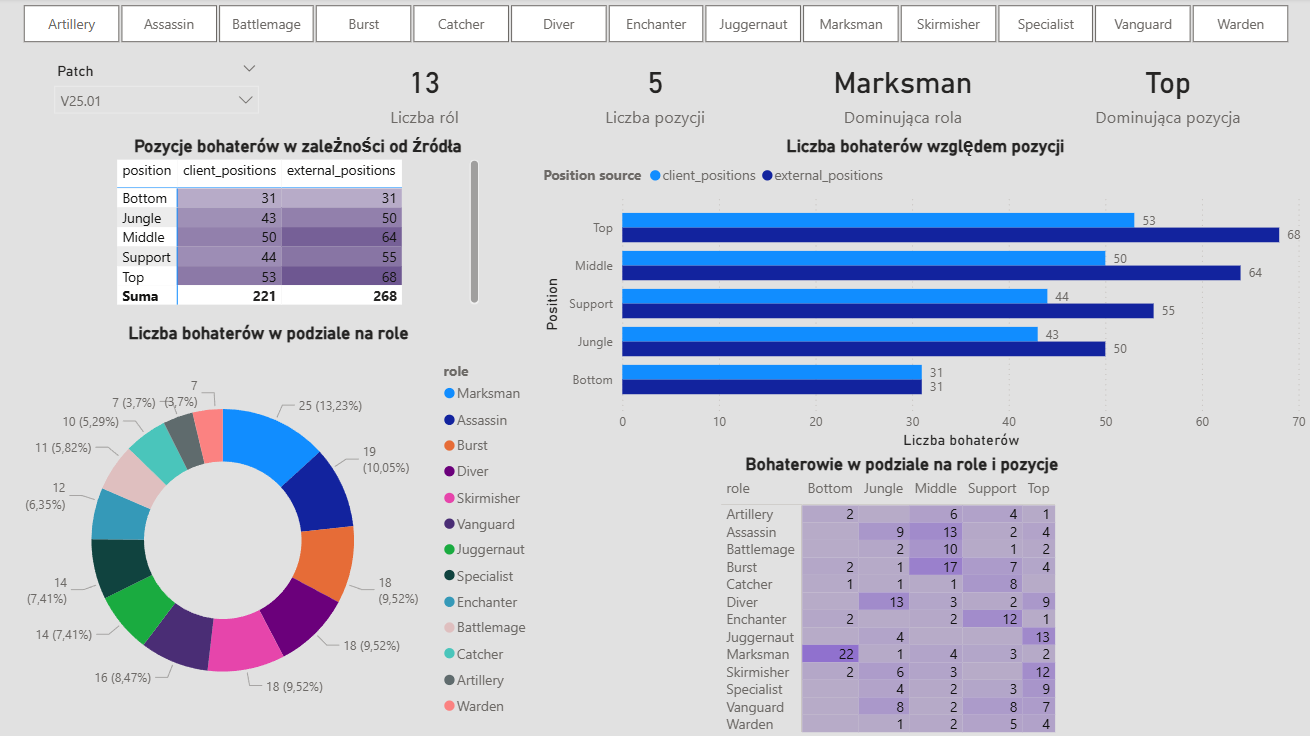

This screenshot's page, from the dashboard's own definition file:
{"tool":"powerbi","page":{"name":"Role i pozycje","canvas":[1280,720],"ordinal":2},"visuals":[{"type":"slicer","fields":{"Values":["v_champion_roles_positions.role"]},"box":[0,0,1280,49.6],"z":1000},{"type":"card","fields":{"Values":["_Miary.Liczba ról"]},"box":[305.2,49.6,220.7,83.4],"z":2000},{"type":"card","fields":{"Values":["_Miary.Liczba pozycji"]},"box":[528.1,49.6,223.9,83.4],"z":3000},{"type":"card","fields":{"Values":["_Miary.Dominująca rola"]},"box":[734,49.6,293.6,83.4],"z":4000},{"type":"donutChart","title":"Liczba bohaterów w podziale na role","fields":{"Category":["v_champion_roles_positions.role"],"Y":["Count(v_champion_roles_positions.champion)"]},"box":[0,316.1,528.1,403.6],"z":5000},{"type":"card","fields":{"Values":["_Miary.Dominująca pozycja"]},"box":[998,49.6,282,83.4],"z":6000},{"type":"clusteredBarChart","title":"Liczba bohaterów względem pozycji","fields":{"Category":["v_champion_roles_positions.position"],"Y":["CountNonNull(v_champion_roles_positions.champion)"],"Series":["v_champion_roles_positions.position_source"]},"box":[526.2,133.3,753.8,310.3],"z":7000},{"type":"pivotTable","title":"Bohaterowie w podziale na role i pozycje","fields":{"Rows":["v_champion_roles_positions.role"],"Columns":["v_champion_roles_positions.position"],"Values":["Count(v_champion_roles_positions.champion)"]},"box":[699.3,443.5,361.8,277.2],"z":8000},{"type":"pivotTable","title":"Pozycje bohaterów w zależności od źródła","fields":{"Columns":["v_champion_roles_positions.position_source"],"Values":["CountNonNull(v_champion_roles_positions.champion)"],"Rows":["v_champion_roles_positions.position"]},"box":[111.9,133.3,361.8,170.2],"z":9000},{"type":"slicer","fields":{"Values":["v_champion_roles_positions.patch_name"]},"box":[45.7,57.4,218.8,68.1],"z":9001}]}

Visuals, with their boxes in screenshot pixels (x1, y1, x2, y2), scaled from the page's 1280x720 canvas onto the 1310x736 screenshot:
slicer - v_champion_roles_positions.role: Rect(0, 0, 1309, 51)
card - _Miary.Liczba ról: Rect(312, 51, 538, 136)
card - _Miary.Liczba pozycji: Rect(540, 51, 770, 136)
card - _Miary.Dominująca rola: Rect(751, 51, 1052, 136)
"Liczba bohaterów w podziale na role" donutChart: Rect(0, 323, 540, 735)
card - _Miary.Dominująca pozycja: Rect(1021, 51, 1309, 136)
"Liczba bohaterów względem pozycji" clusteredBarChart: Rect(539, 136, 1309, 453)
"Bohaterowie w podziale na role i pozycje" pivotTable: Rect(716, 453, 1086, 735)
"Pozycje bohaterów w zależności od źródła" pivotTable: Rect(115, 136, 485, 310)
slicer - v_champion_roles_positions.patch_name: Rect(47, 59, 271, 128)
